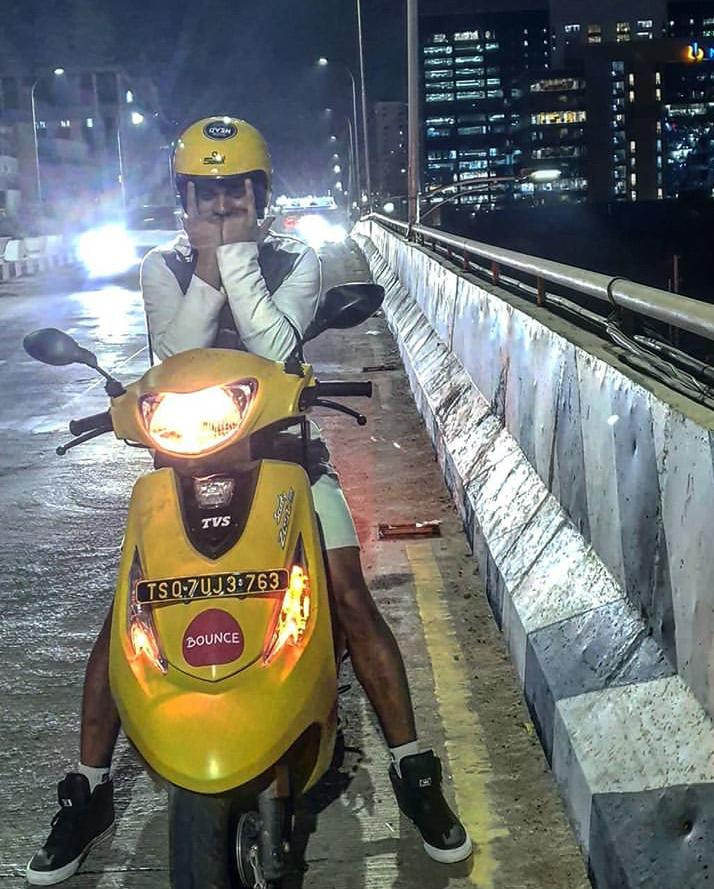helmet: (170, 114, 274, 252)
